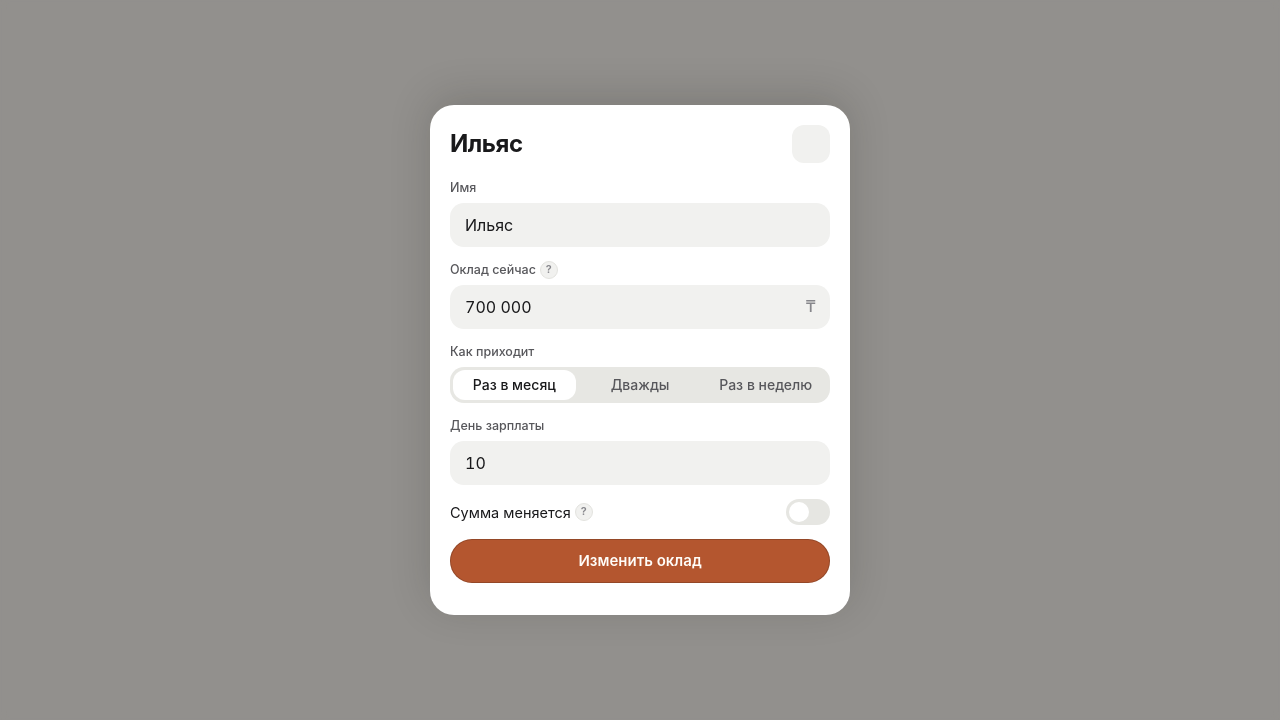
Test case: SalaryDialog — оклад в валюте › евро с прошлого месяца: строка «≈ N ₸», версия с валютой и курсом, «Доход» в тенге по книге
Click the button "Изменить оклад" at (640, 561), box [450,539,830,583]
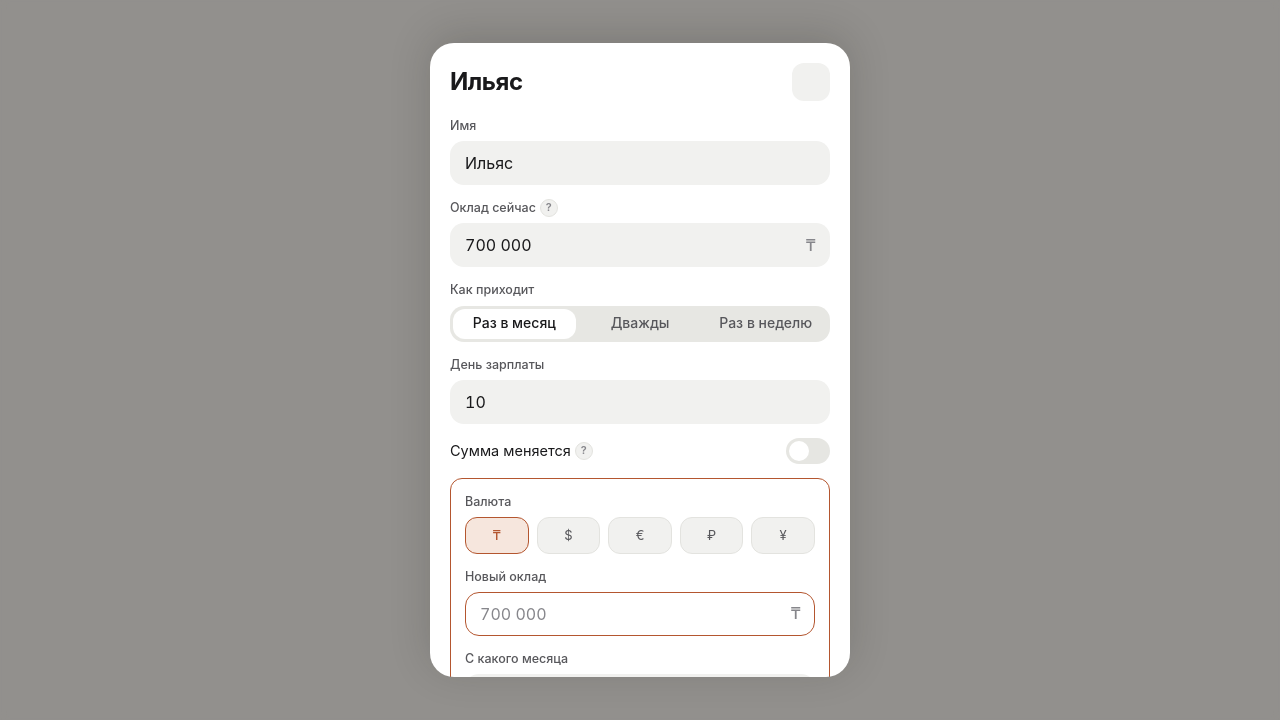
Click the button named "EUR" at (640, 535), box [608,517,672,554]
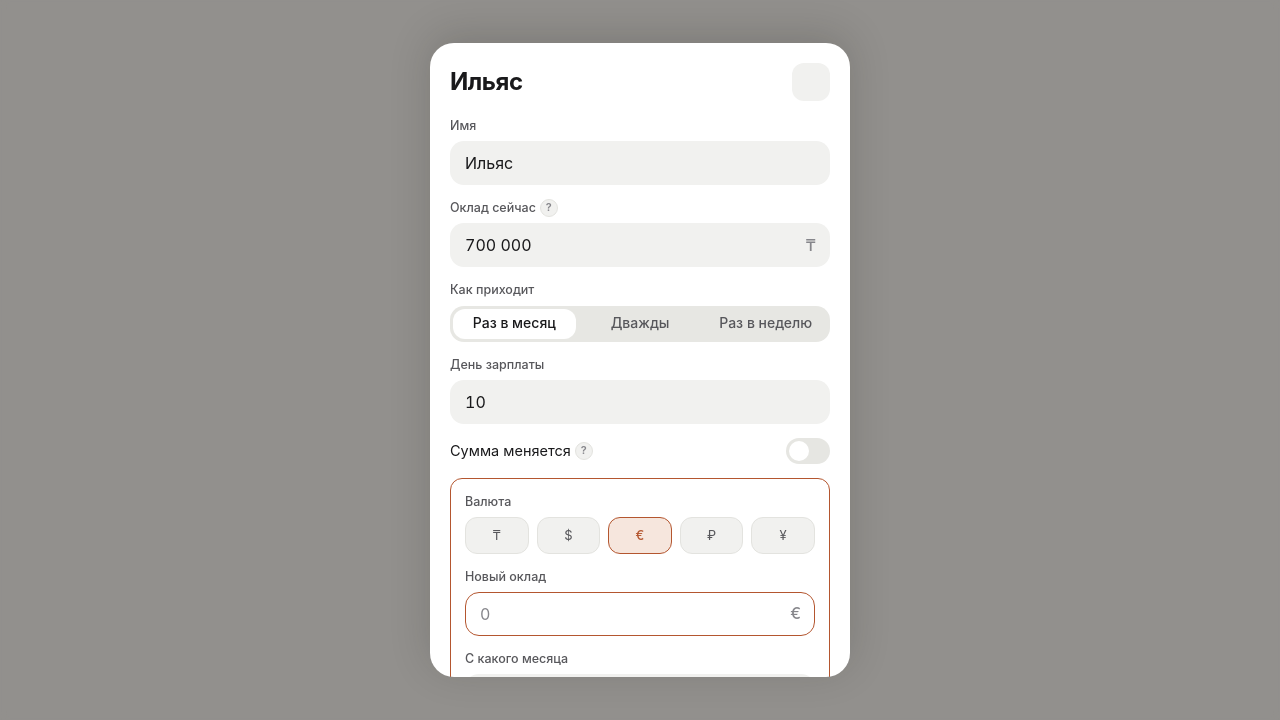
Result: the text "Новый оклад" is shown at [465,569,546,584]
Type "1500" into the field labelled "Новый оклад €" at (640, 614), box [465,592,815,636]
(page scrolled)
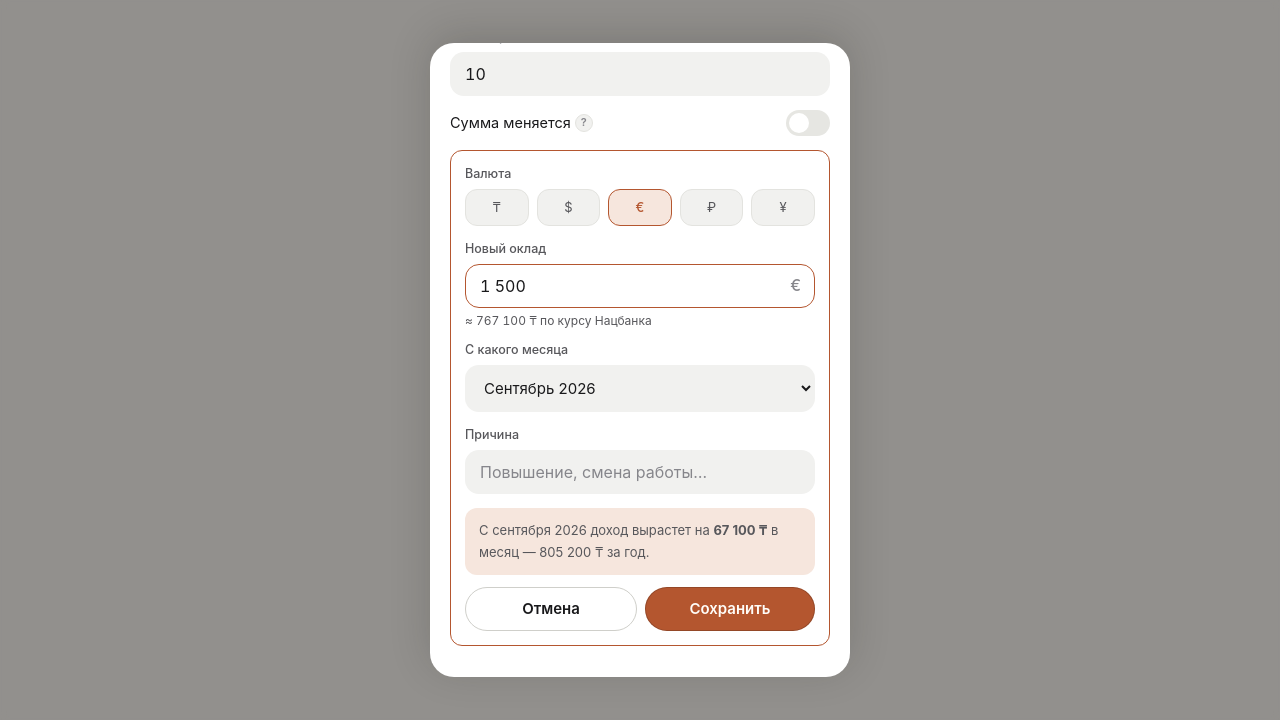
Result: the text "≈ 767 100 ₸ по курсу Нацбанка" is shown at [465,313,652,328]
Select "Октябрь 2025" in the dropdown labelled "С какого месяца" at (640, 389), box [465,365,815,412]
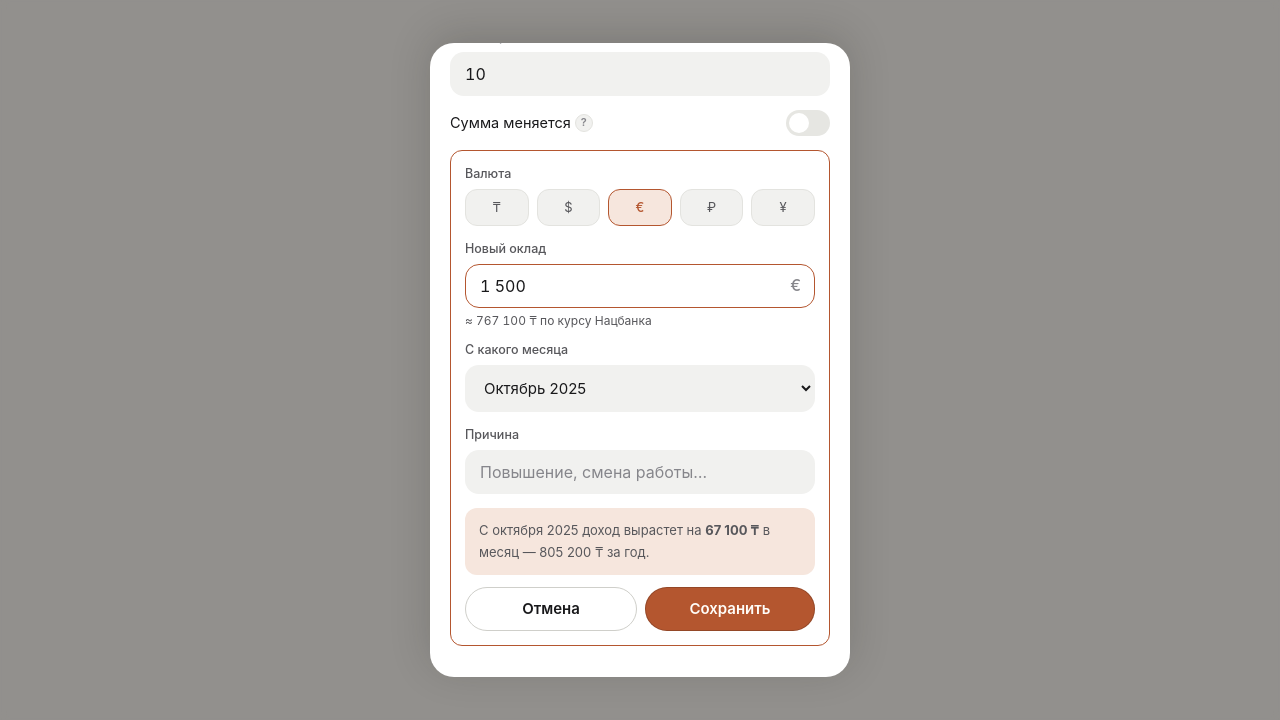
Click the button "Сохранить" at (730, 609), box [645,587,815,631]
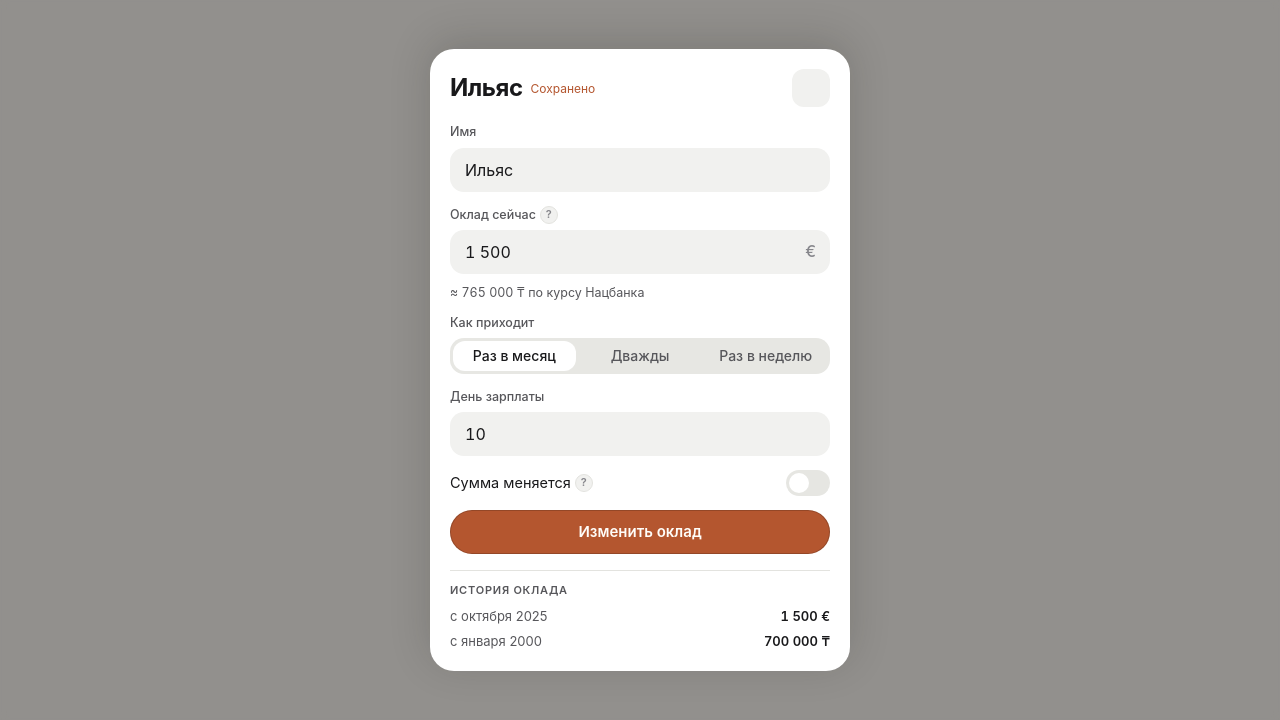
Result: the text "Оклад сейчас" is shown at [450,206,536,222]
Result: the text "≈ 765 000 ₸ по курсу Нацбанка" is shown at [450,285,644,300]
